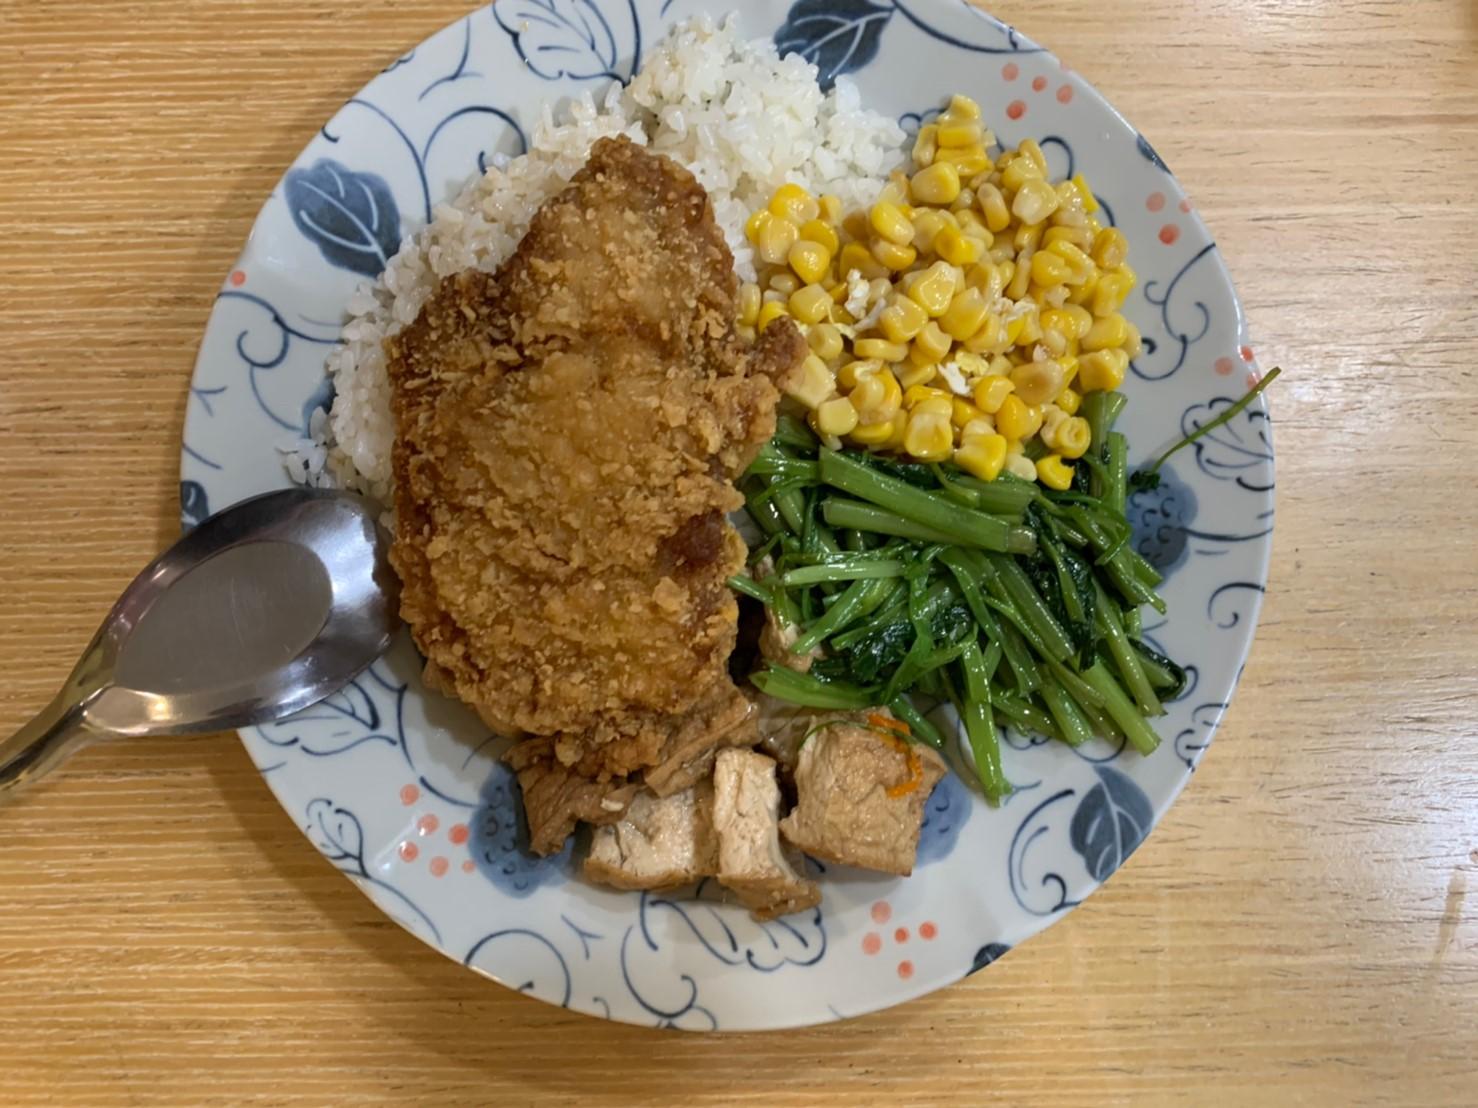fried_chicken: (384, 137, 777, 736)
rice: (609, 13, 887, 221)
water_spinach: (760, 422, 1187, 793)
